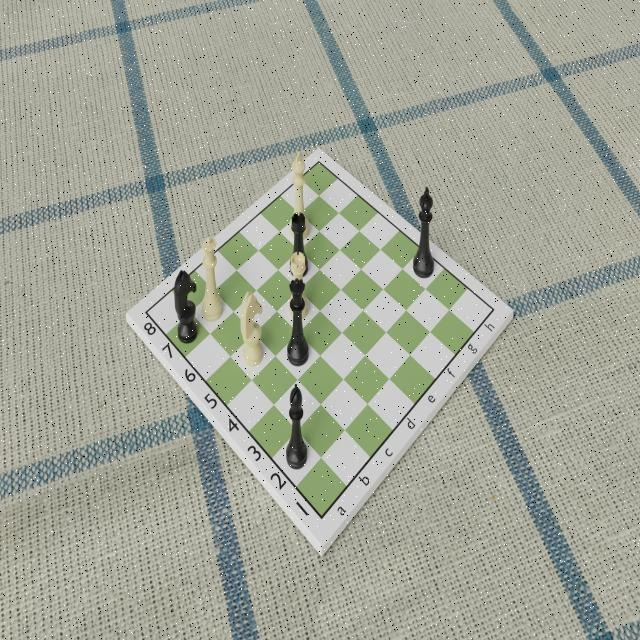black-bishop: (285, 380, 308, 471)
black-king: (412, 185, 437, 283)
black-knight: (172, 267, 200, 348)
black-queen: (285, 276, 311, 368)
black-rook: (290, 210, 310, 282)
white-king: (288, 150, 309, 230)
white-knight: (240, 289, 265, 367)
white-queen: (199, 233, 225, 327)
white-rook: (287, 250, 309, 320)
